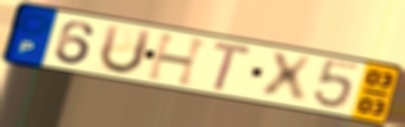5: (310, 57, 362, 112)
6: (54, 20, 96, 66)
H: (144, 32, 212, 89)
T: (210, 38, 255, 93)
U: (96, 22, 155, 76)
X: (260, 50, 316, 105)
